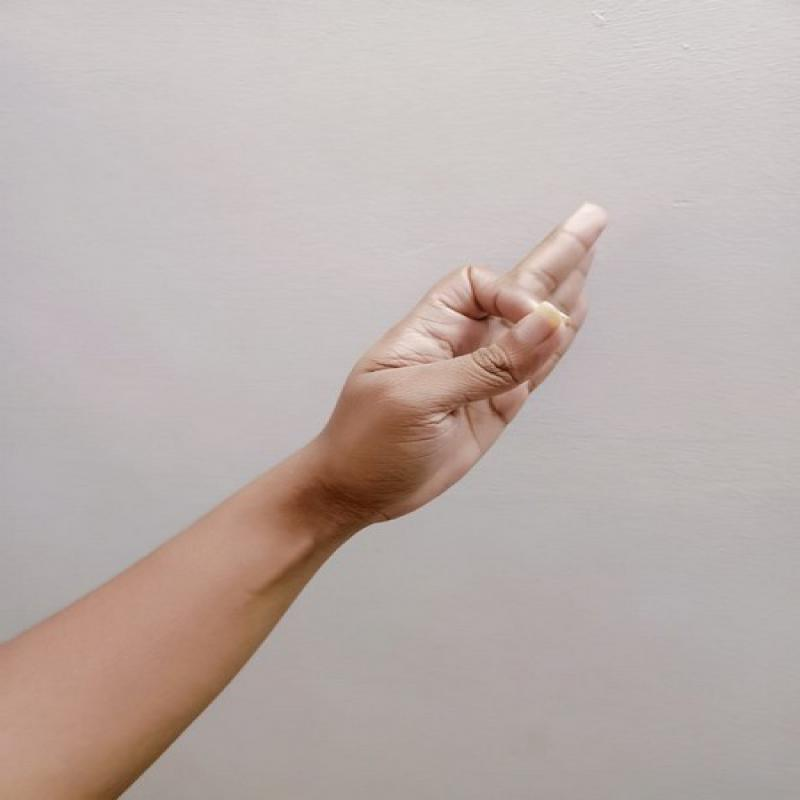Mudraakhyam: (311, 191, 624, 529)
